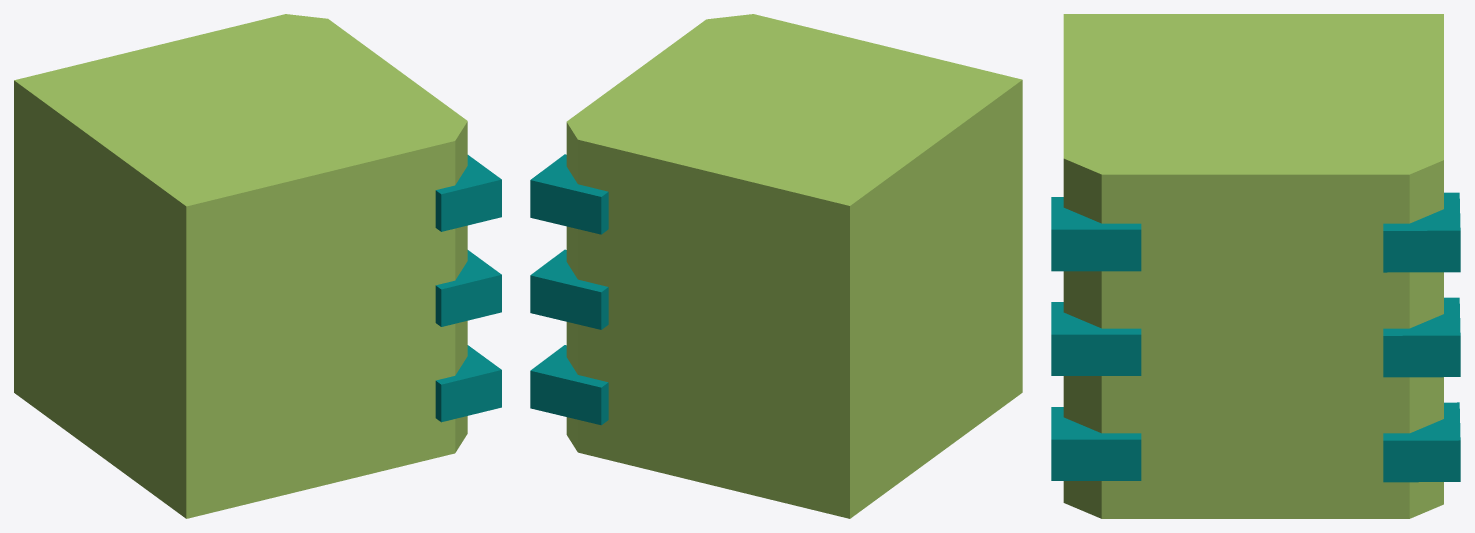
The model's file is 1Left Connect bluegreen.fbx.
3 renders of one model, left to right at view 1: azimuth 30°, elevation 25°; view 2: azimuth 150°, elevation 25°; view 3: azimuth 270°, elevation 25°, orthographic. The views are drawn at different scales.
Parts seen in each view (by area): view 1: pCube6, pCube3, pCube4, pCube5; view 2: pCube6, pCube7, pCube8, pCube9; view 3: pCube6, pCube3, pCube5, pCube4, pCube8, pCube7, pCube9.
Part boxes in pixels (x1,y1,x2,y2): pCube6: (14,14,467,518); pCube3: (435,155,501,231); pCube4: (435,250,501,326); pCube5: (435,345,501,422); pCube6: (566,14,1022,518); pCube7: (530,249,608,329); pCube8: (530,154,608,234); pCube9: (530,345,608,425); pCube6: (1063,14,1443,518); pCube3: (1051,197,1141,271); pCube5: (1051,407,1141,480); pCube4: (1051,302,1141,375); pCube8: (1383,192,1460,272); pCube7: (1383,297,1460,377); pCube9: (1383,402,1460,482).
Bounding box in the file's own units: 2.09 × 2 × 2.15.
